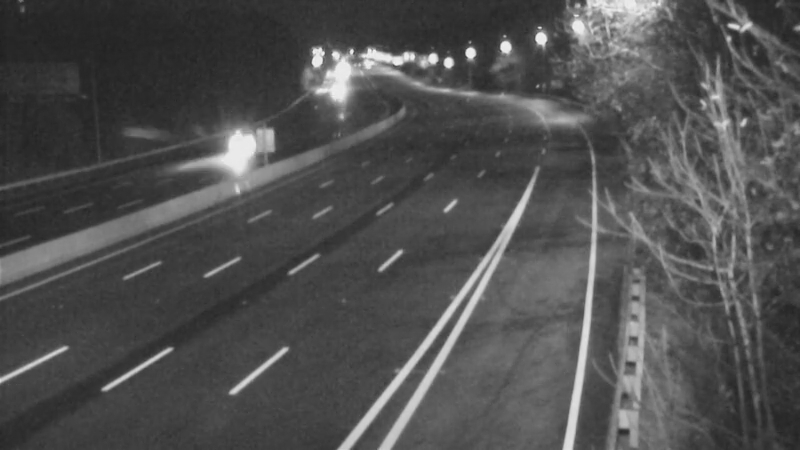vehicle: (224, 123, 274, 173)
